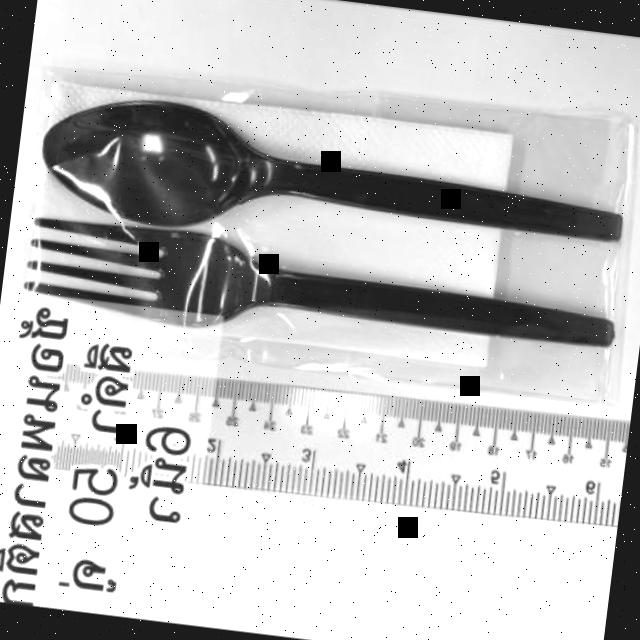plastic_spoon: (20, 90, 638, 382)
